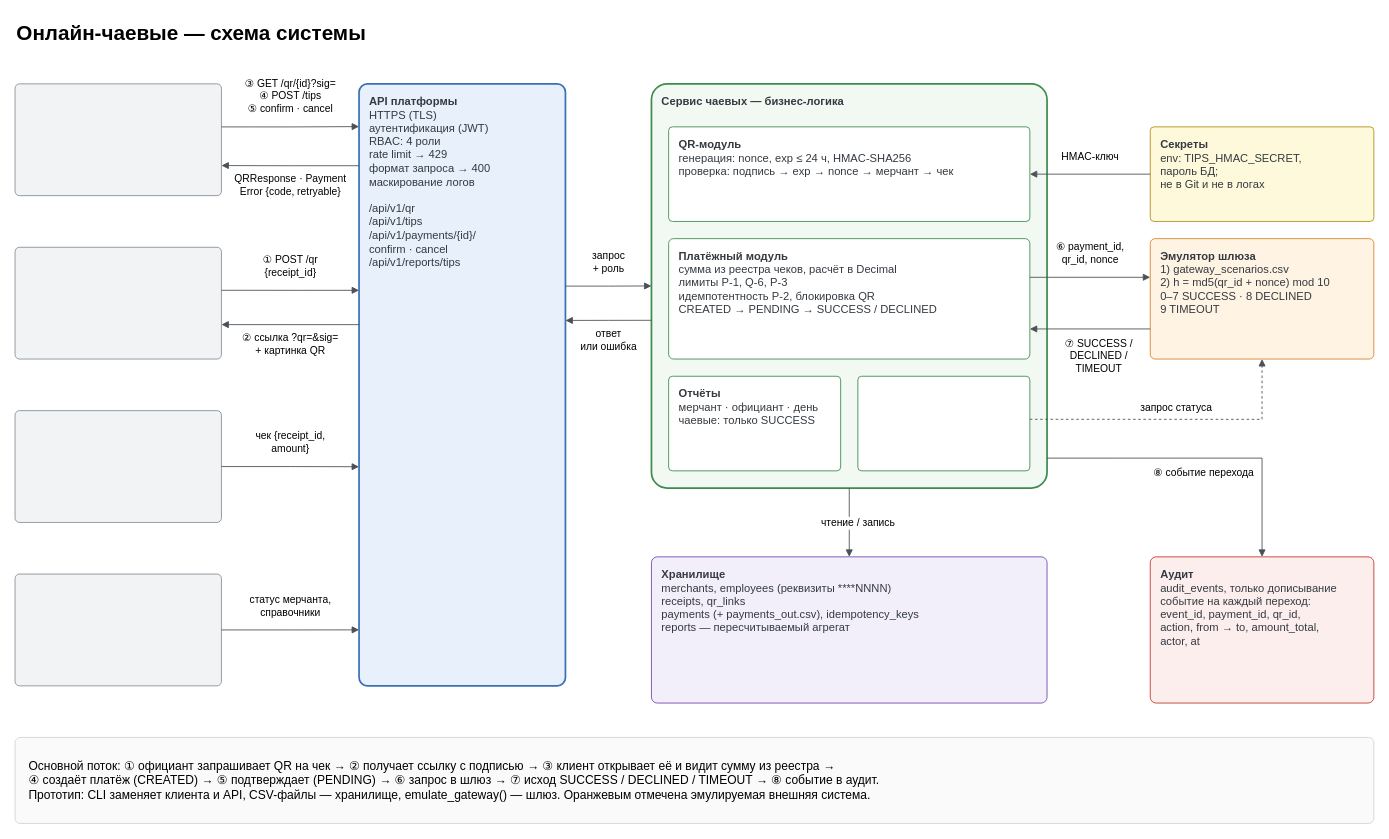
Some shapes in this 1389 by 839 pixel diagram are drawn without their labels. The shapes that lost their labels are listed below. From the top down, each one's centre as x and y in pixels, then its label:
point (117, 139): Клиент телефон, браузер сканирует QR, выбирает чаевые
point (117, 302): Официант / мерчант кабинет: QR на чек, свои чаевые, отчёты
point (943, 423): Сверка (job) PENDING > 15 мин → DECLINED, GATEWAY_TIMEOUT
point (117, 466): Касса (POS) реестр чеков: receipt_id, сумма
point (117, 629): Администратор активация и блокировка мерчантов, справочники
